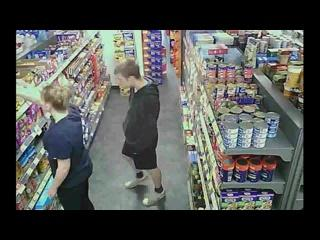Normal: (114, 59, 166, 208), (39, 84, 94, 210)
